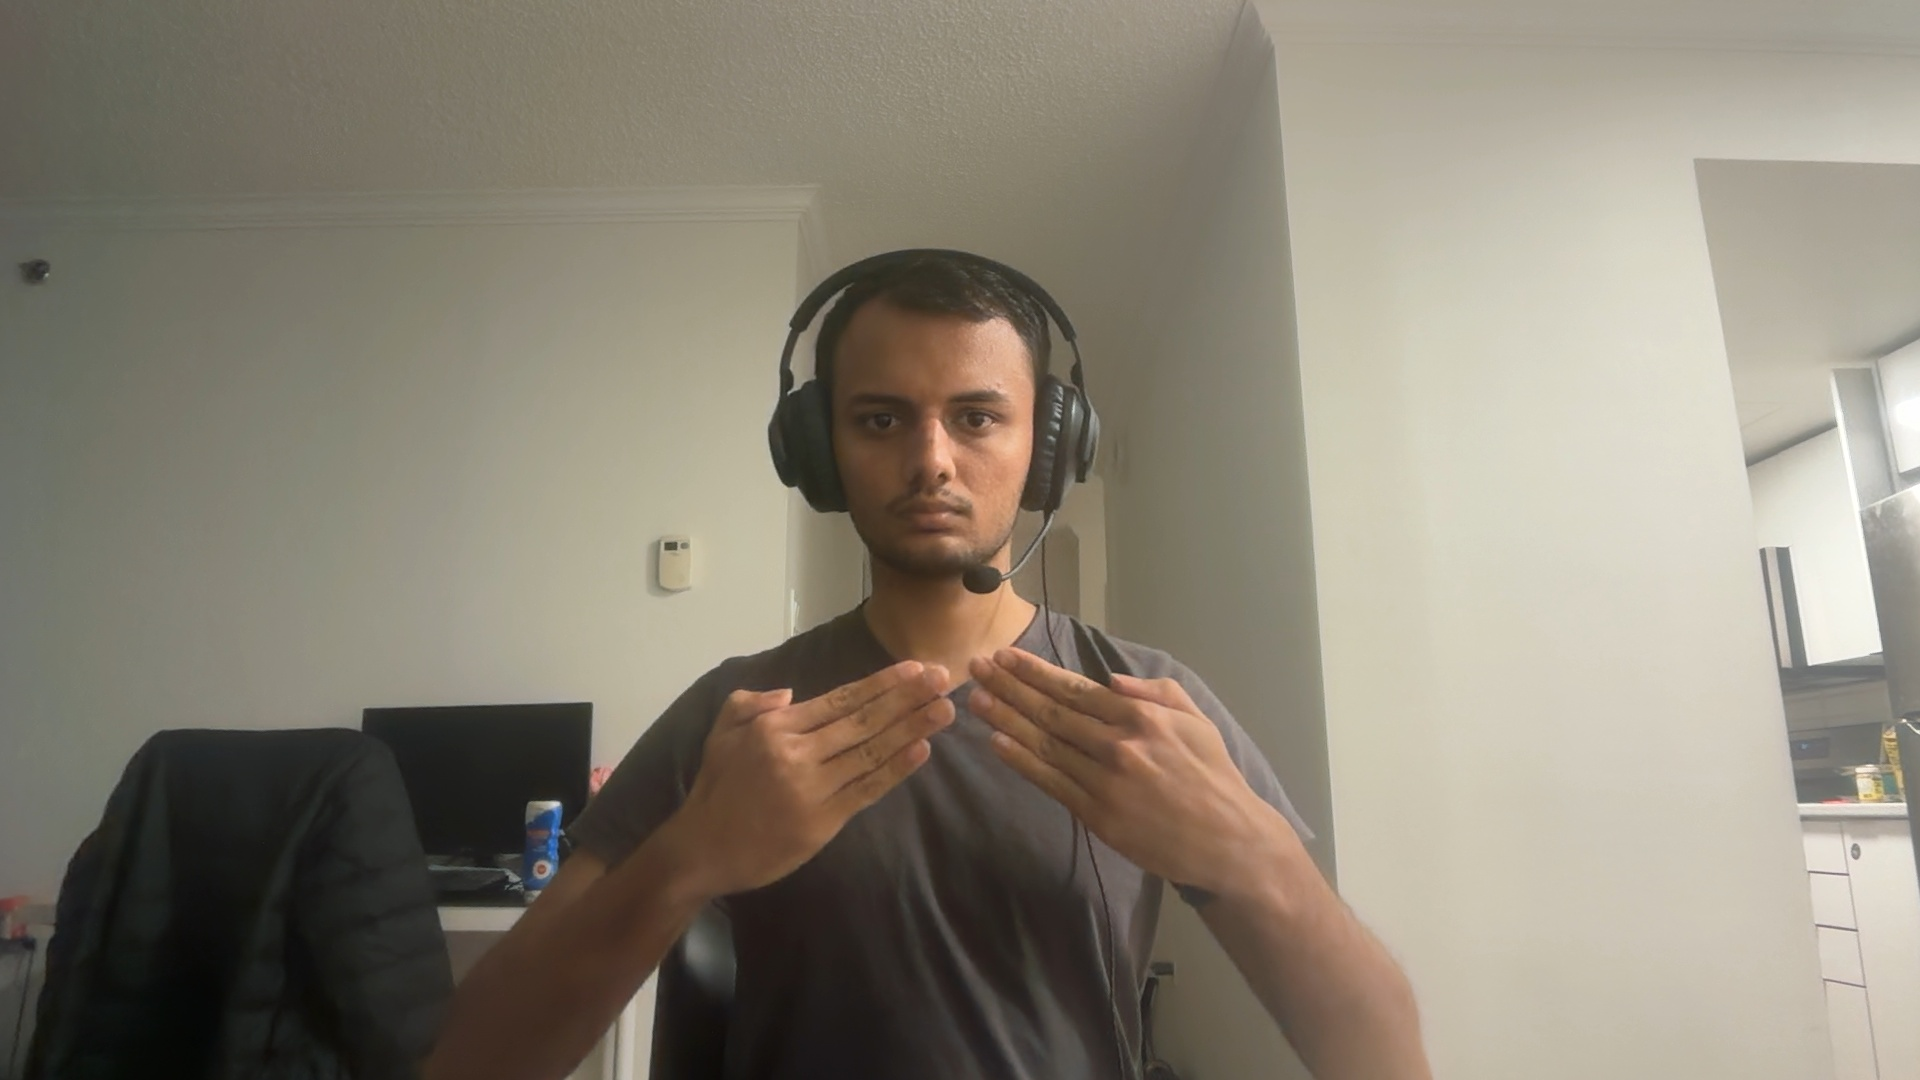thankyou: (678, 645, 1244, 898)
